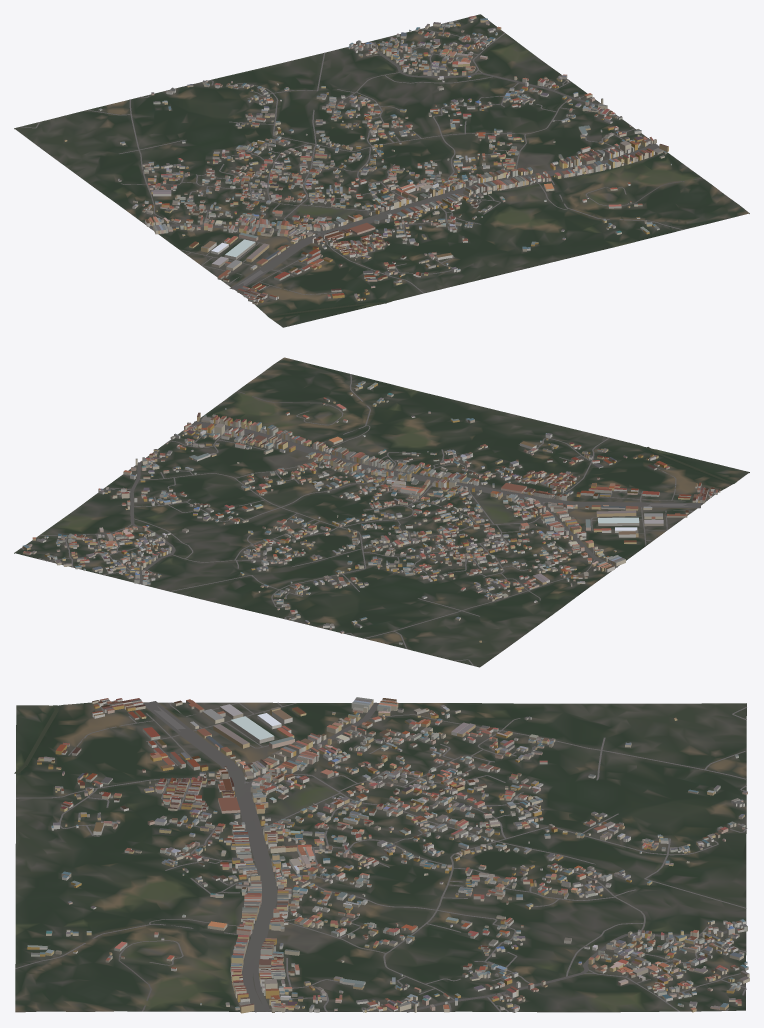
3 renders of one model, top to bottom at view 1: azimuth 30°, elevation 25°; view 2: azimuth 150°, elevation 25°; view 3: azimuth 270°, elevation 25°, orthographic. The views are drawn at different scales.
Visible parts, largest first — view 1: ground, buildings, roads; view 2: ground, buildings, roads; view 3: ground, buildings, roads.
Boxes of the visible parts, x1=… form: ground: x1=14, y1=14, x2=749, y2=327; buildings: x1=64, y1=15, x2=671, y2=304; roads: x1=20, y1=20, x2=702, y2=294; ground: x1=14, y1=357, x2=749, y2=667; buildings: x1=22, y1=381, x2=720, y2=644; roads: x1=21, y1=374, x2=710, y2=665; ground: x1=15, y1=701, x2=746, y2=1012; buildings: x1=27, y1=697, x2=749, y2=1013; roads: x1=15, y1=701, x2=747, y2=1012.
Bounding box in the file's own units: 1414 × 30.83 × 1412.
